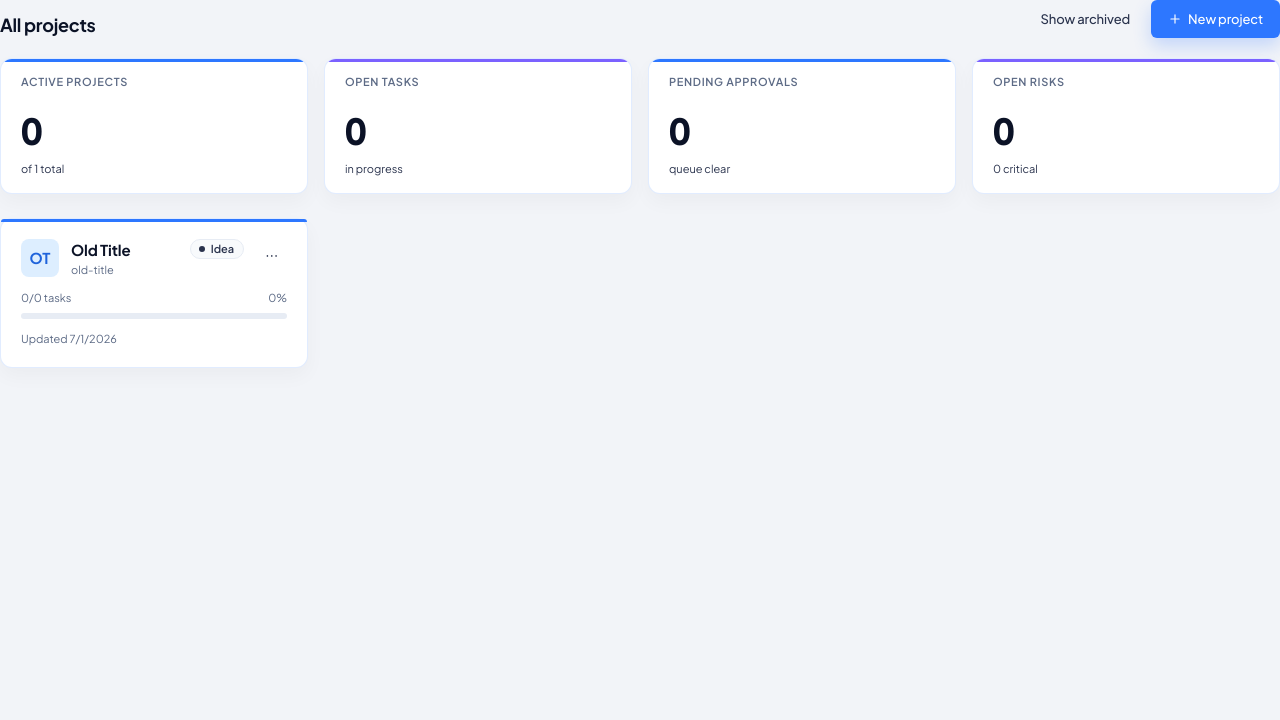
Test case: Dashboard project edit (#158) › keeps the form open with the entered values when the save fails
This screenshot has width=1280, height=720.
Click the button named "Project actions".
click(272, 255)  # box [256,239,287,271]
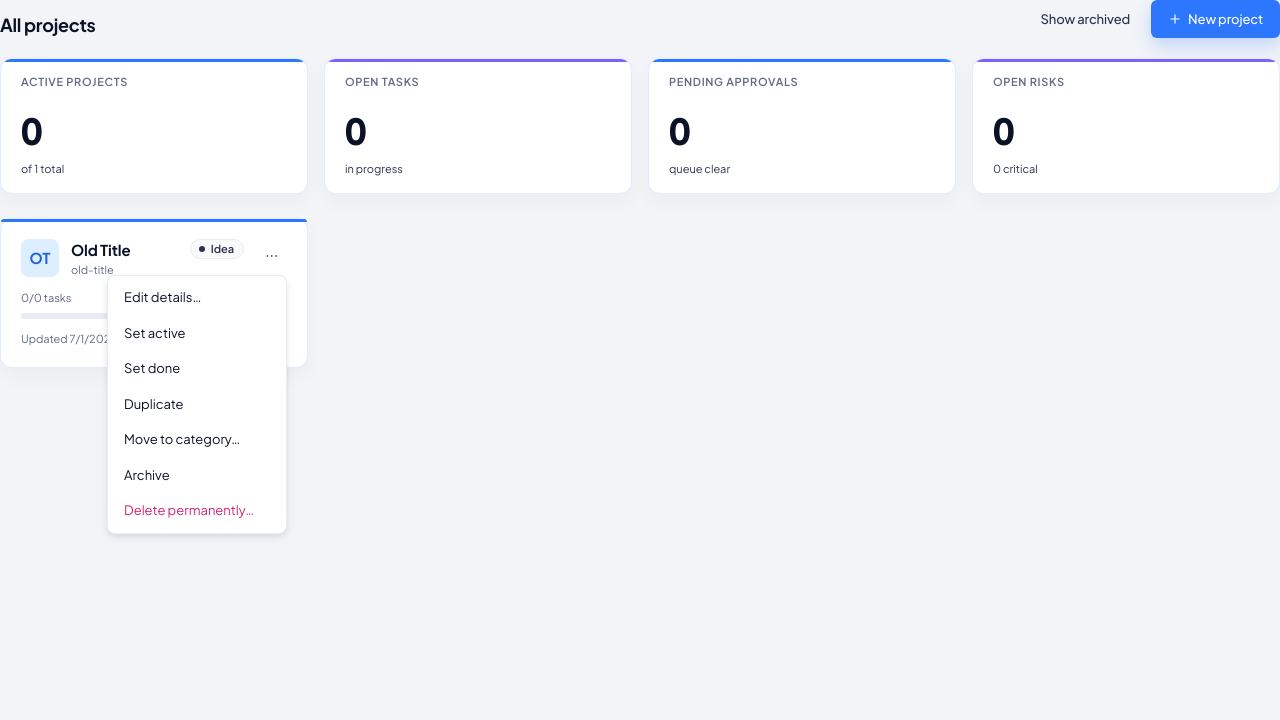
Click the menu item "Edit details…".
click(197, 298)  # box [112,280,282,316]
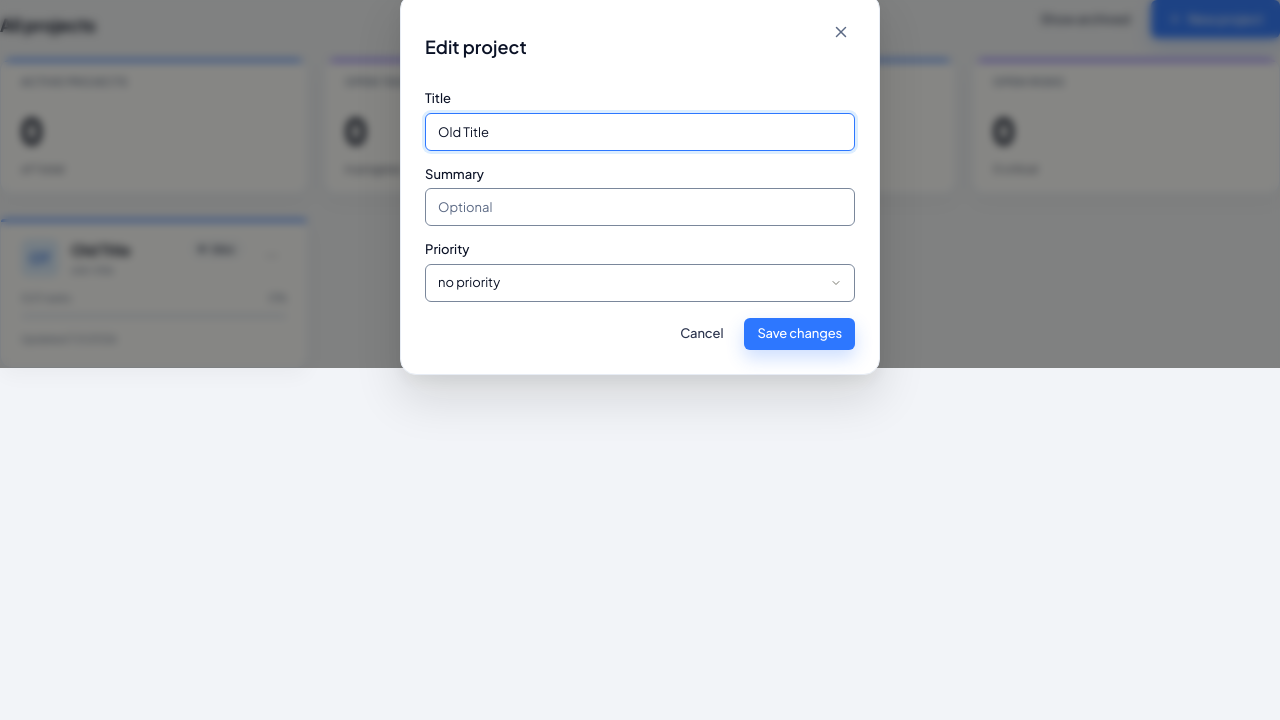
Replace the text in the field labelled "Title" with "Half-typed rename" at point(640, 132), box [425,113,855,151]
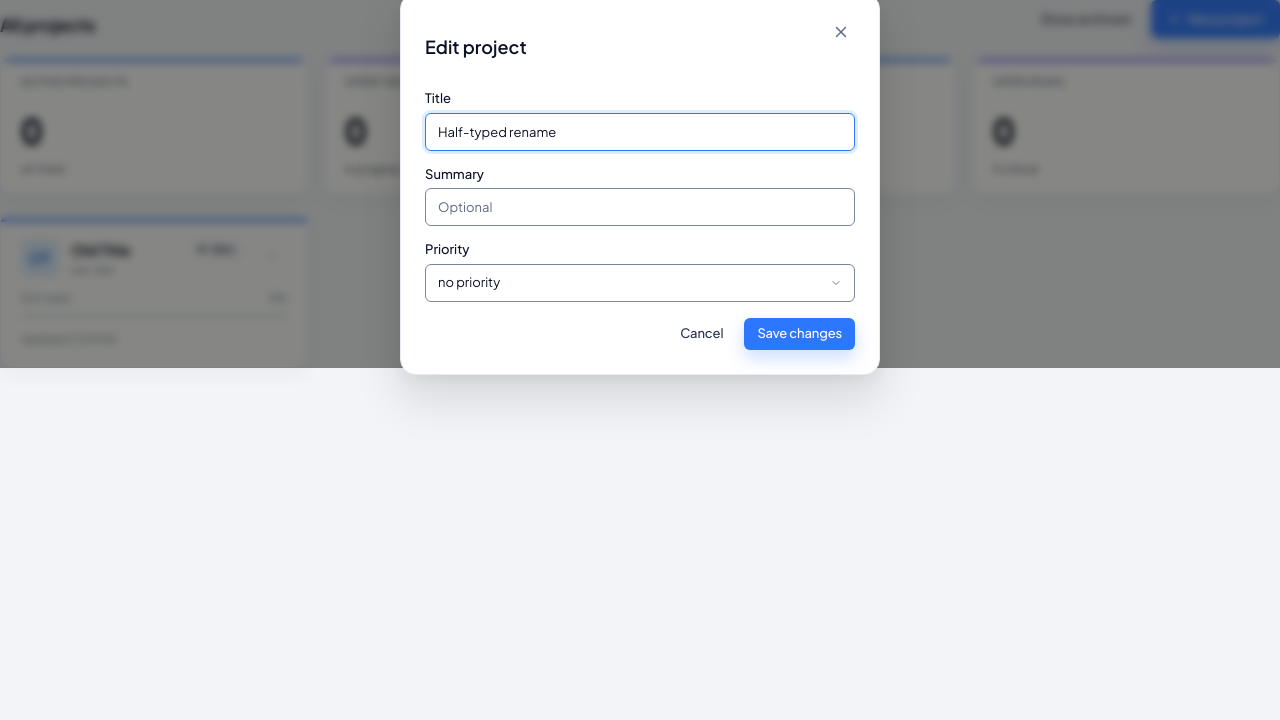
Click the button "Save changes".
click(800, 334)  # box [744,318,855,350]
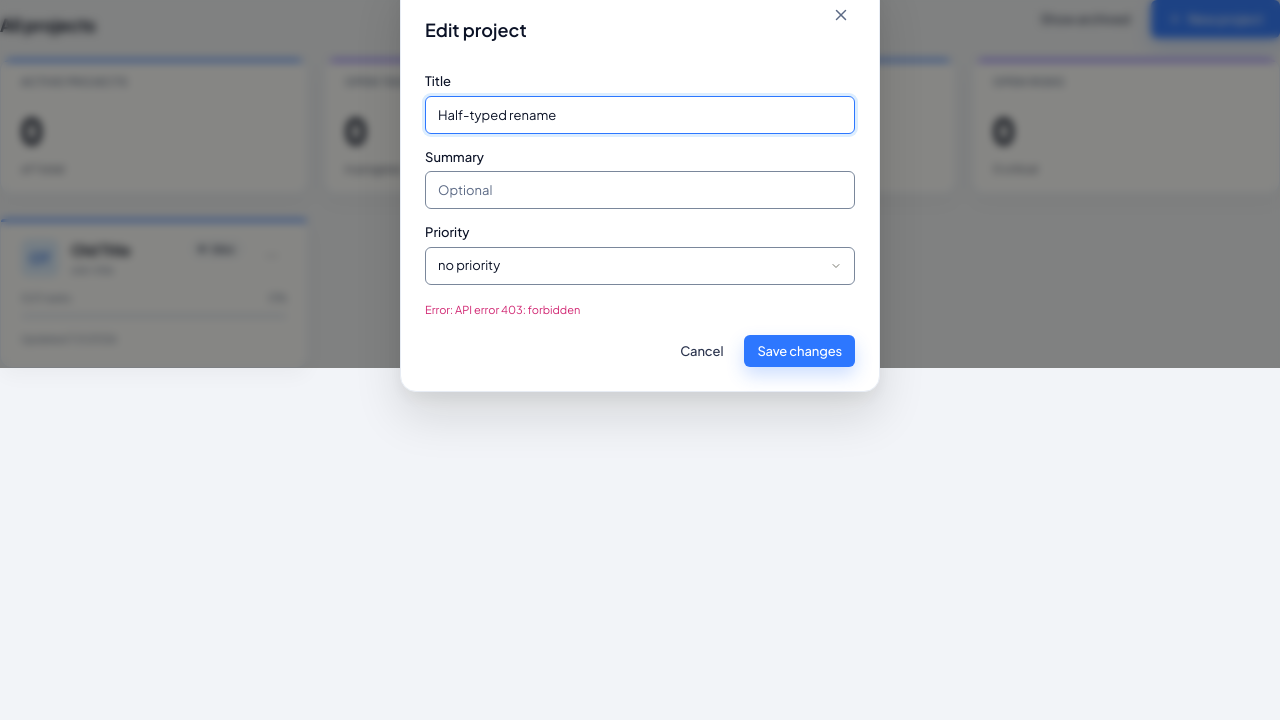
Expected: the heading "Edit project" is shown, [425,16,527,43]
Expected: the button "Save changes" is enabled, [744,335,855,367]
Expected: the message shows "403", [425,303,580,316]
